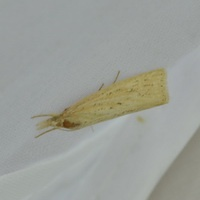insect: (32, 68, 168, 137)
